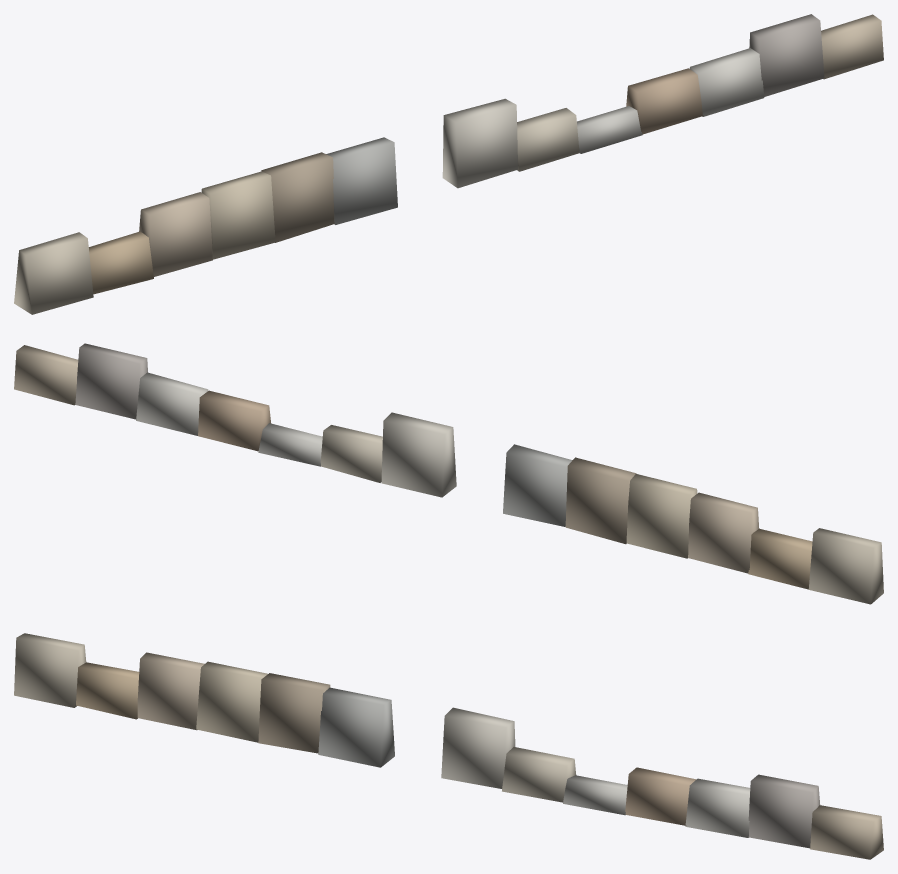
File: farm_6_-6_far.glb
3 renders of one model, top to bottom at view 1: azimuth 30°, elevation 25°; view 2: azimuth 150°, elevation 25°; view 3: azimuth 330°, elevation 25°, orthographic. The views are drawn at different scales.
Visible parts, largest first — view 1: geometry_0; view 2: geometry_0; view 3: geometry_0.
Boxes of the visible parts, x1,y1,x2,y2 form: geometry_0: (14, 14, 883, 314); geometry_0: (14, 343, 883, 604); geometry_0: (14, 633, 883, 859).
Size of the model in its own units: 21.72 by 1.92 by 1.52.
